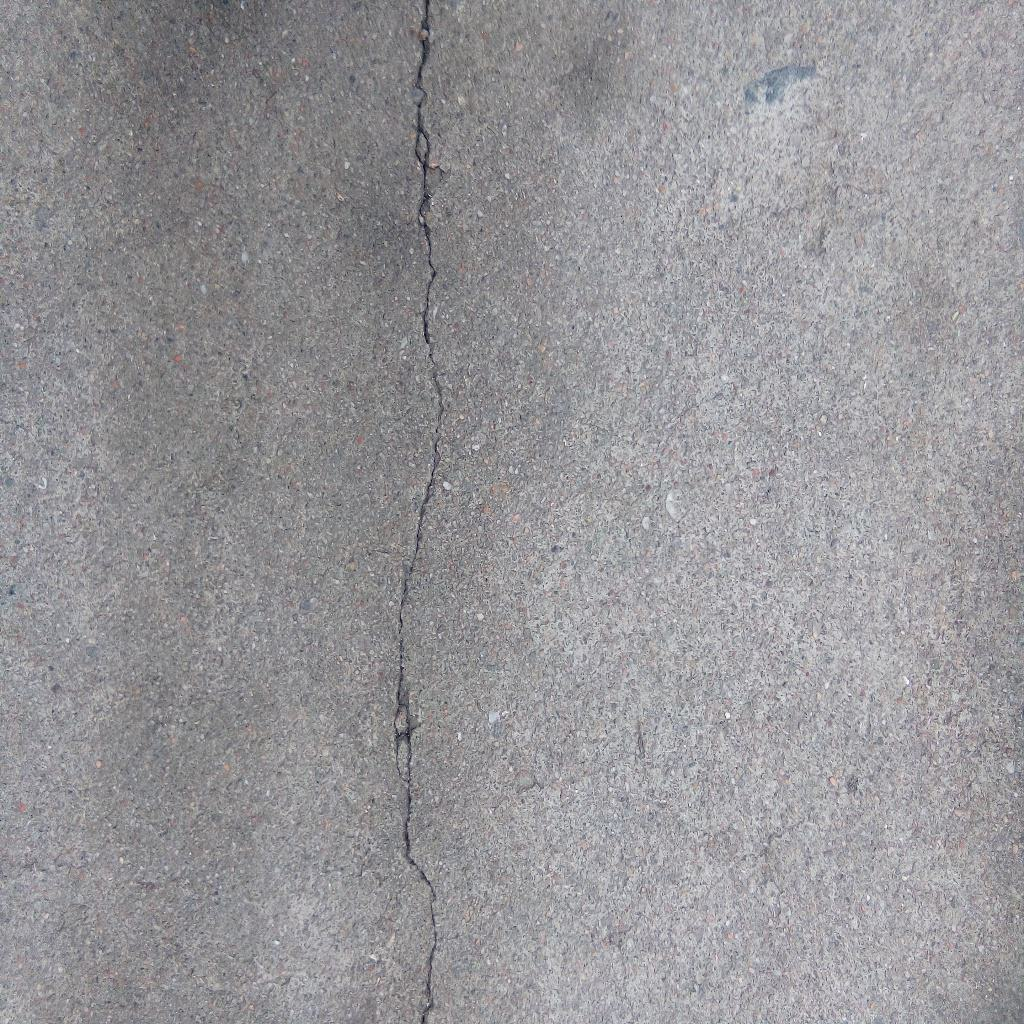Crack: (394, 1, 445, 1024)
